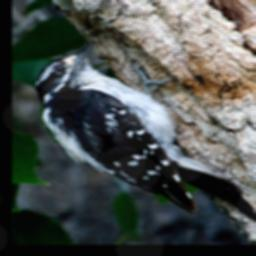Woodpecker: (30, 41, 256, 223)
